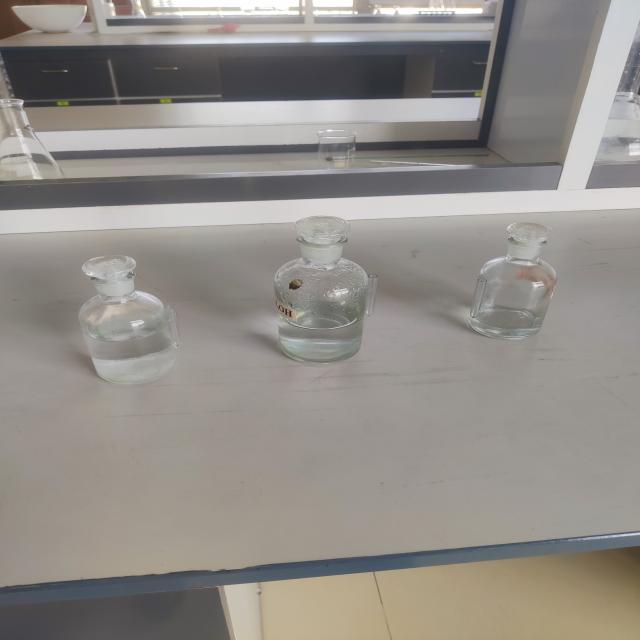Reagent_Bottle: (250, 192, 394, 384), (52, 235, 196, 403), (453, 181, 570, 357)
